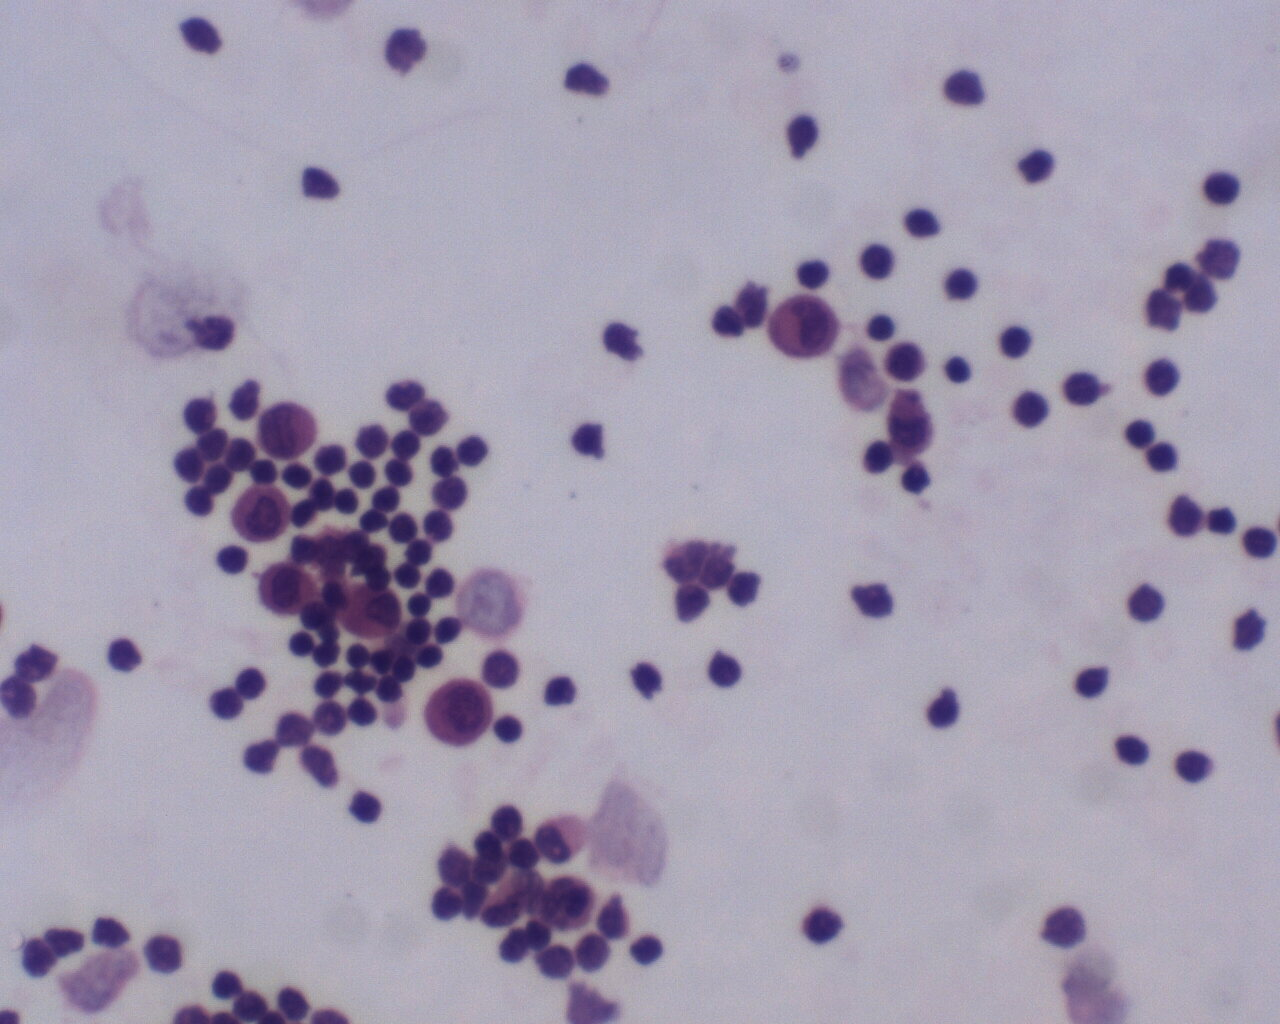ab: (424, 678, 497, 751), (770, 293, 843, 364), (227, 481, 297, 546), (251, 396, 321, 462), (880, 385, 944, 457), (333, 580, 406, 641), (255, 558, 317, 620)
lymph: (1196, 163, 1244, 209), (857, 240, 904, 286), (701, 645, 744, 694), (104, 635, 149, 681), (942, 266, 987, 308), (1009, 389, 1053, 430), (996, 321, 1038, 364), (1174, 744, 1215, 788), (1073, 660, 1112, 702), (1110, 730, 1148, 771), (203, 686, 245, 723), (1123, 413, 1160, 453), (866, 309, 903, 346), (386, 510, 422, 544), (347, 459, 379, 493), (390, 428, 422, 460)
